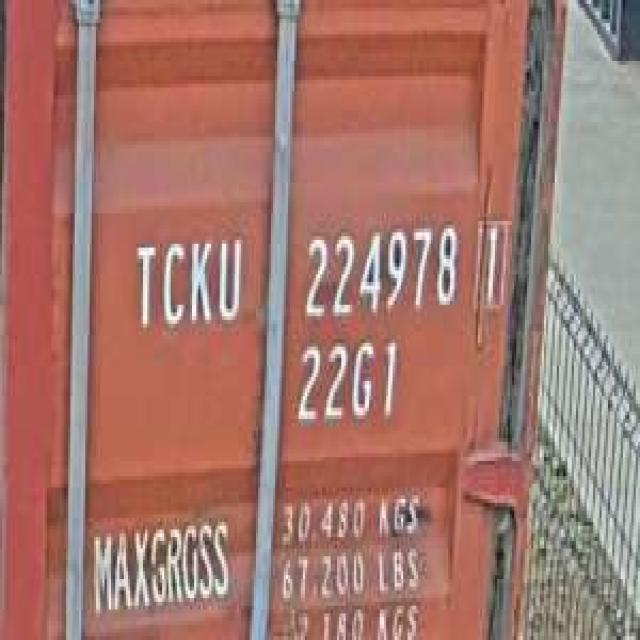dv: (474, 210, 506, 312)
owner: (128, 225, 245, 335)
serial: (296, 213, 458, 328)
size: (292, 332, 401, 438)
